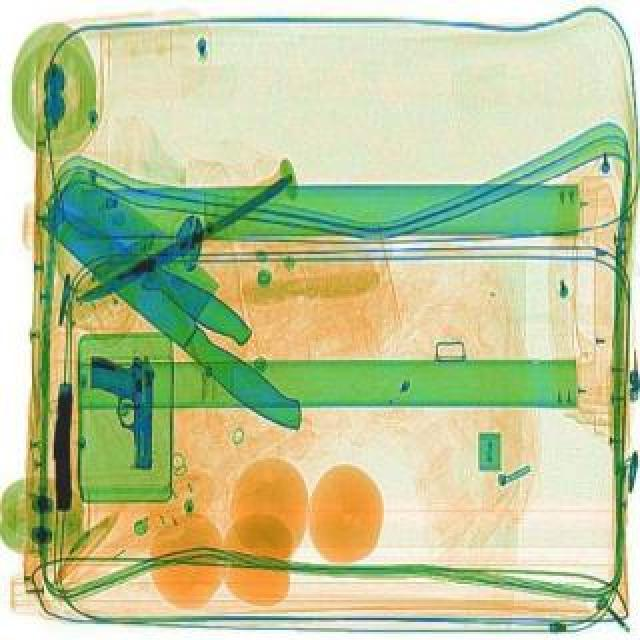gun: (86, 352, 154, 470), (52, 380, 74, 510)
knife: (24, 166, 346, 440), (28, 188, 258, 350), (74, 172, 298, 308)
